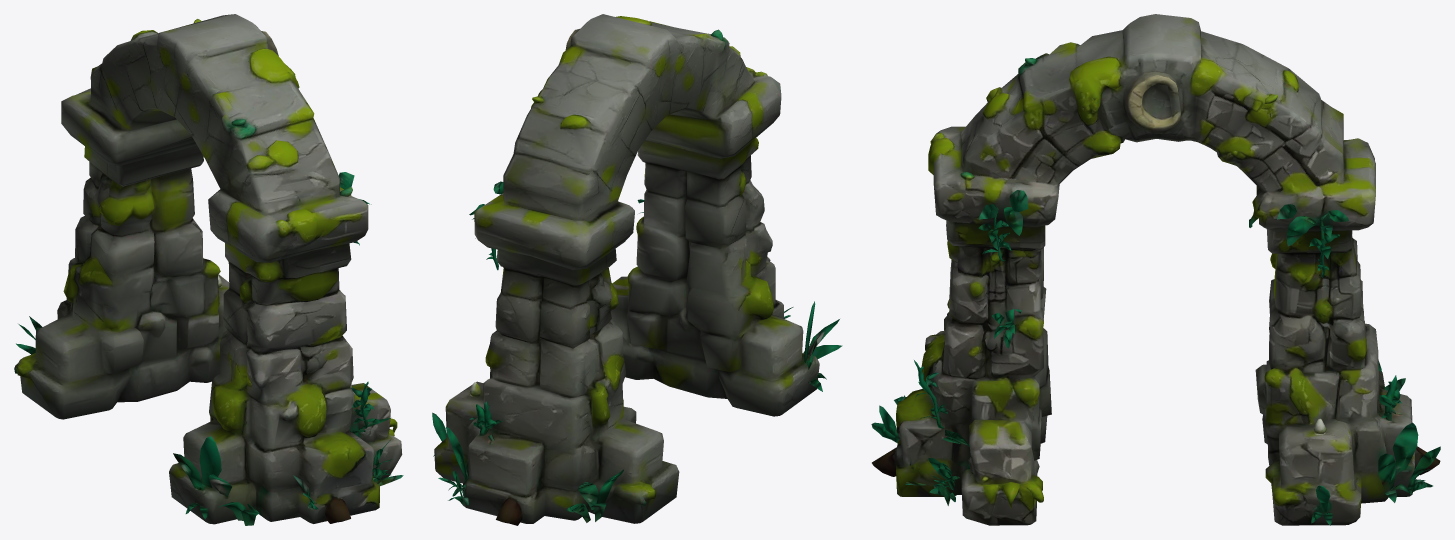
Rendered from stone-arch-ruin.glb.
The picture shows the model from 3 angles, left to right: view 1: azimuth 30°, elevation 25°; view 2: azimuth 150°, elevation 25°; view 3: azimuth 270°, elevation 25°; orthographic projection. The views are drawn at different scales.
Visible parts, largest first — view 1: tripo_node_e1139d32-5a9a-447f-95a1-cc6e80ed989e; view 2: tripo_node_e1139d32-5a9a-447f-95a1-cc6e80ed989e; view 3: tripo_node_e1139d32-5a9a-447f-95a1-cc6e80ed989e.
Boxes of the visible parts, x1,y1,x2,y2 form: tripo_node_e1139d32-5a9a-447f-95a1-cc6e80ed989e: [14, 14, 403, 525]; tripo_node_e1139d32-5a9a-447f-95a1-cc6e80ed989e: [432, 14, 842, 525]; tripo_node_e1139d32-5a9a-447f-95a1-cc6e80ed989e: [871, 14, 1440, 525].
Bounding box in the file's own units: 0.5176 × 0.8535 × 0.998.
1 material, 1 textured.
